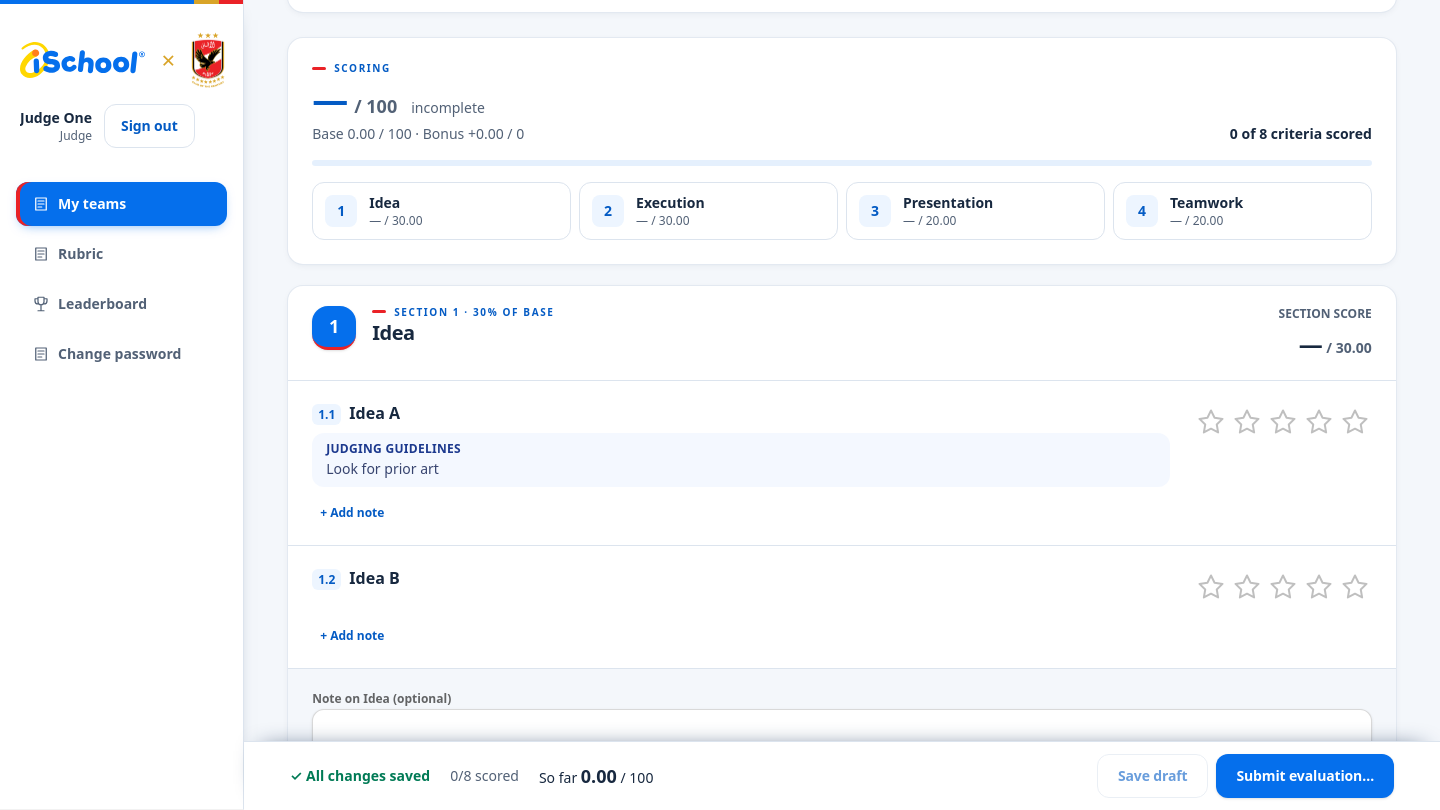
Test: Evaluation page › updates section and final scores instantly and autosaves
(page scrolled)
Click the radio button named "4 stars" in the row of "1.1" at (1319, 422), box [1302, 405, 1336, 439]
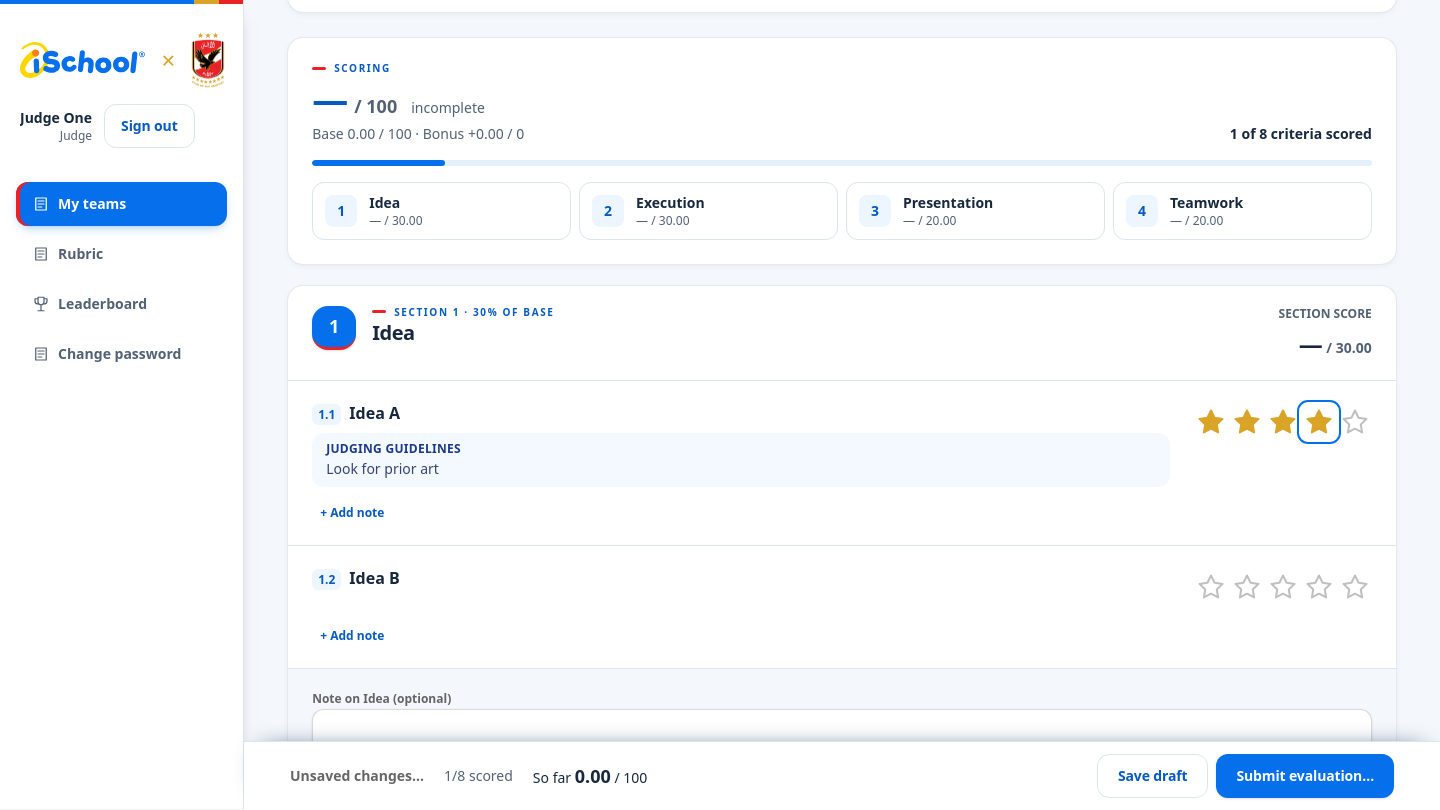
Click the radio button named "5 stars" in the row of "1.2" at (1355, 587), box [1338, 570, 1372, 604]
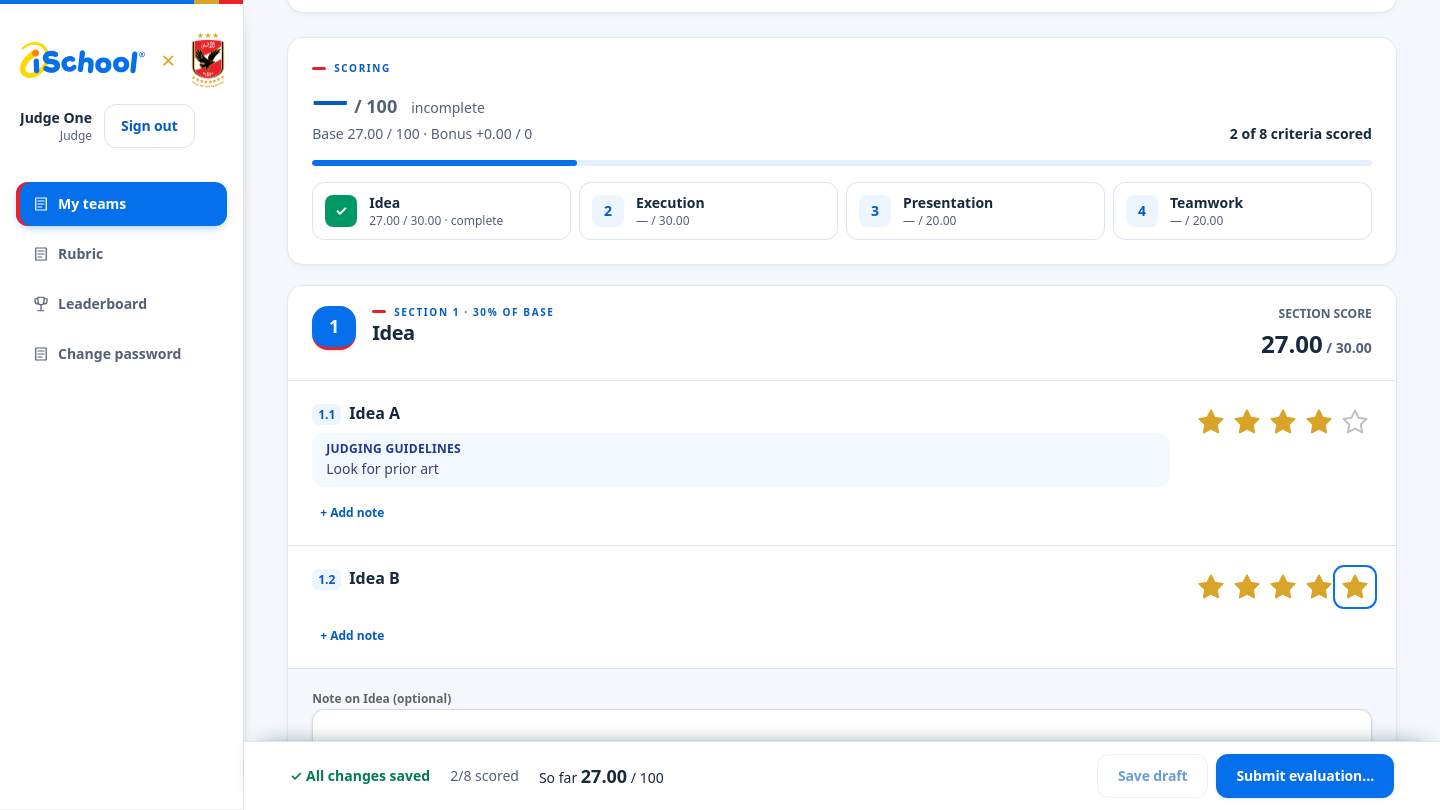
Expected: the text "27.00" is shown 2 times, [1261, 327, 1323, 360]; [581, 764, 627, 788]
Expected: the text "2/8 scored" is shown, [450, 766, 519, 786]
Expected: the text "✓ All changes saved" is shown, [290, 766, 430, 786]
